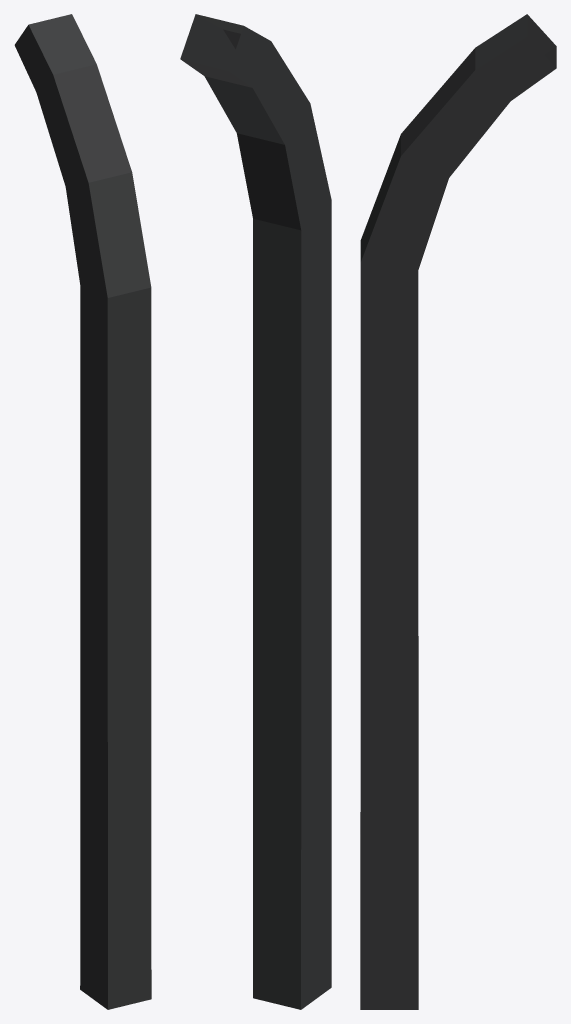
Rendered from SM_Envr_Seawall_Fence_Post.fbx.
The picture shows the model from 3 angles, left to right: view 1: azimuth 30°, elevation 25°; view 2: azimuth 150°, elevation 25°; view 3: azimuth 270°, elevation 25°; orthographic projection. The views are drawn at different scales.
Parts seen in each view (by area): view 1: SM_Envr_Seawall_Fence_Post; view 2: SM_Envr_Seawall_Fence_Post; view 3: SM_Envr_Seawall_Fence_Post.
Boxes of the visible parts, x1,y1,x2,y2 form: SM_Envr_Seawall_Fence_Post: [14, 14, 151, 1009]; SM_Envr_Seawall_Fence_Post: [180, 14, 331, 1009]; SM_Envr_Seawall_Fence_Post: [360, 14, 556, 1009].
Bounding box in the file's own units: 5.93 × 120 × 21.99.
